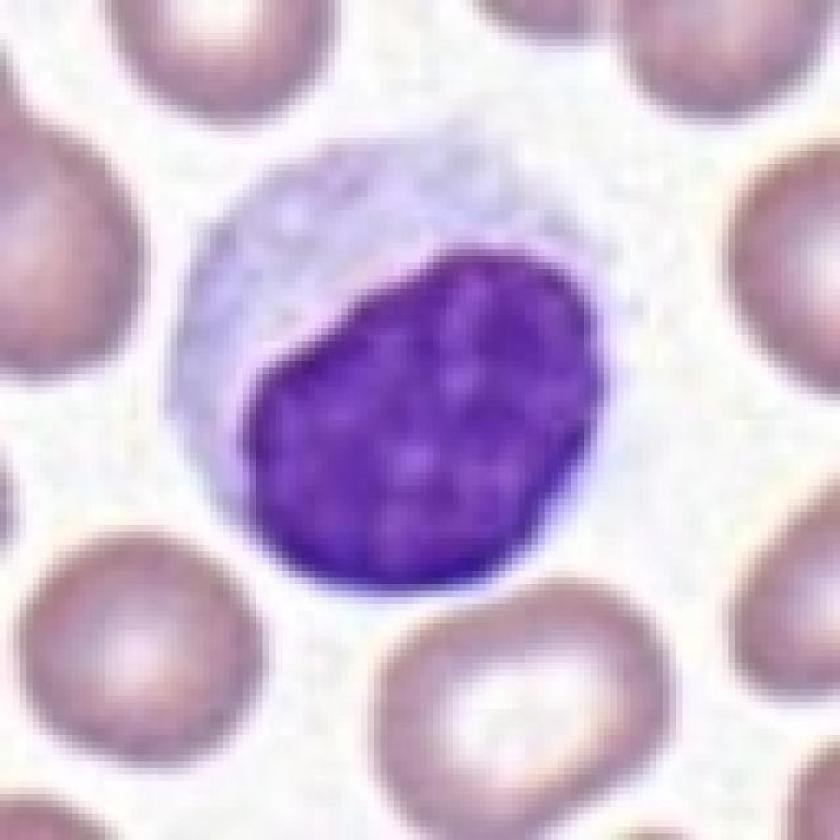lymphocyte: (164, 111, 626, 606)
